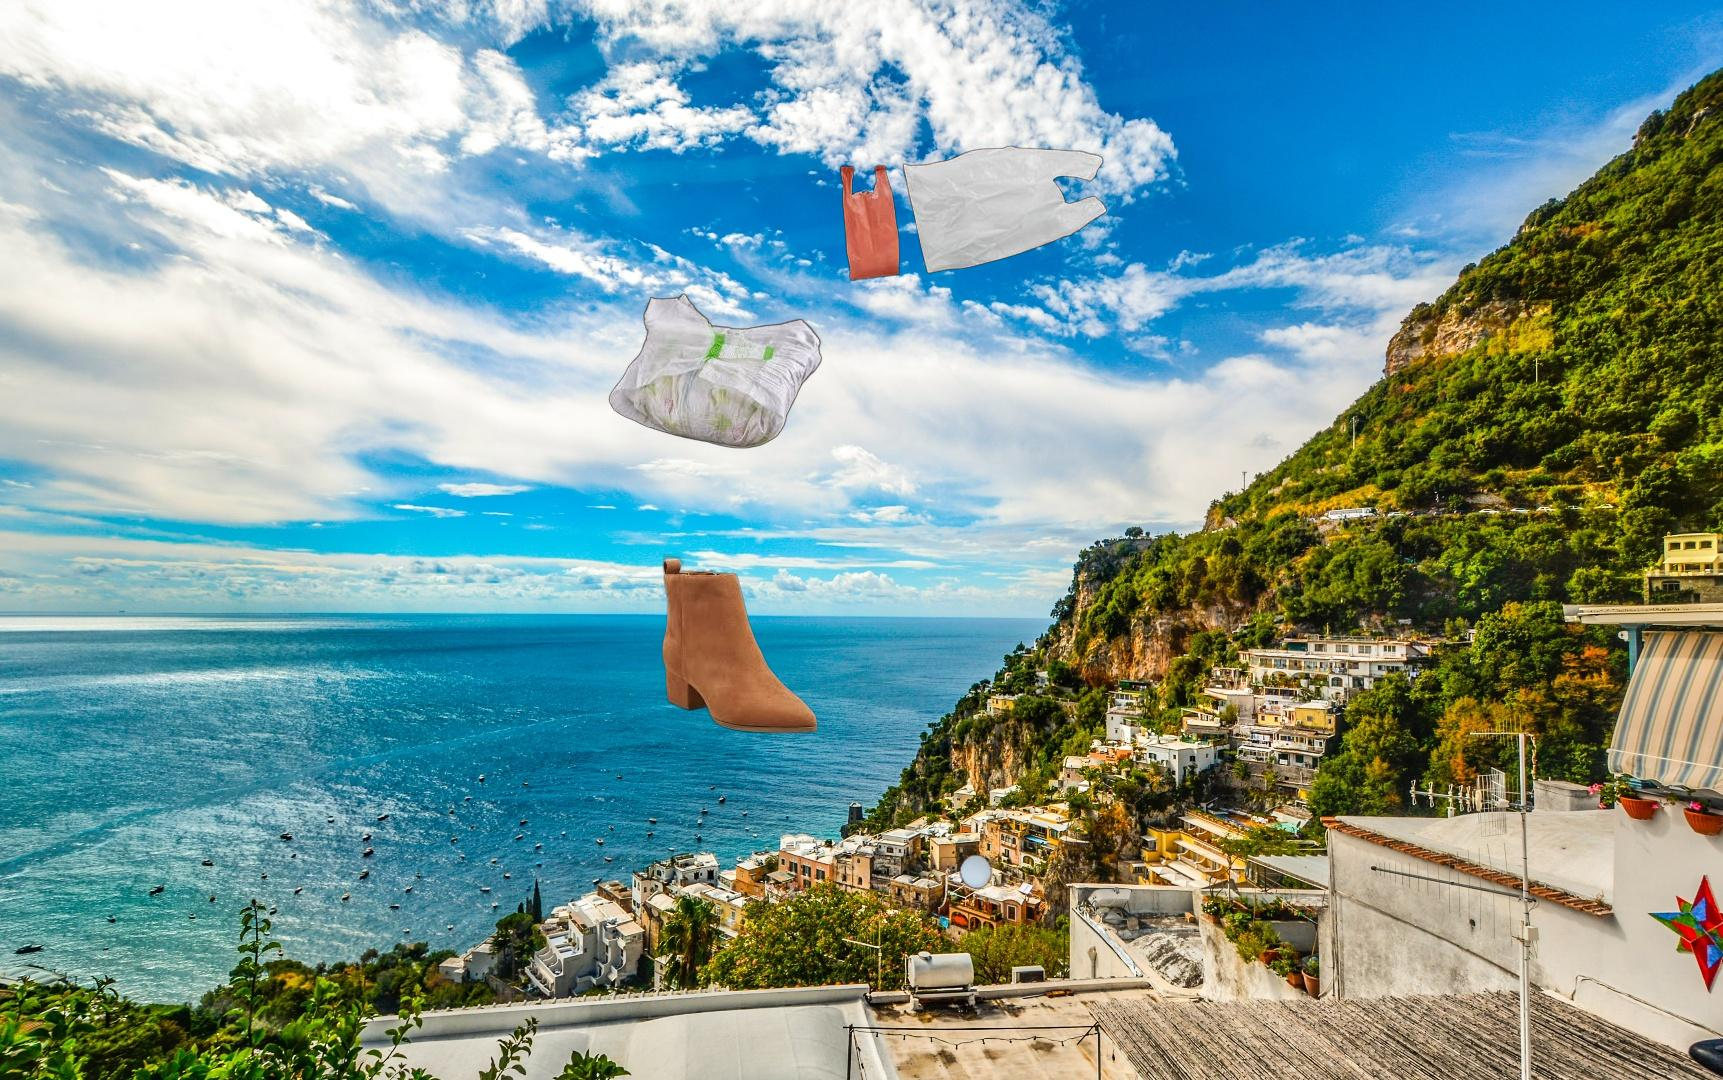plastic-bag: (838, 143, 1108, 282)
shoes: (659, 552, 821, 737)
trash: (606, 291, 825, 450)
trashbox-cardboard: (955, 851, 996, 891)
